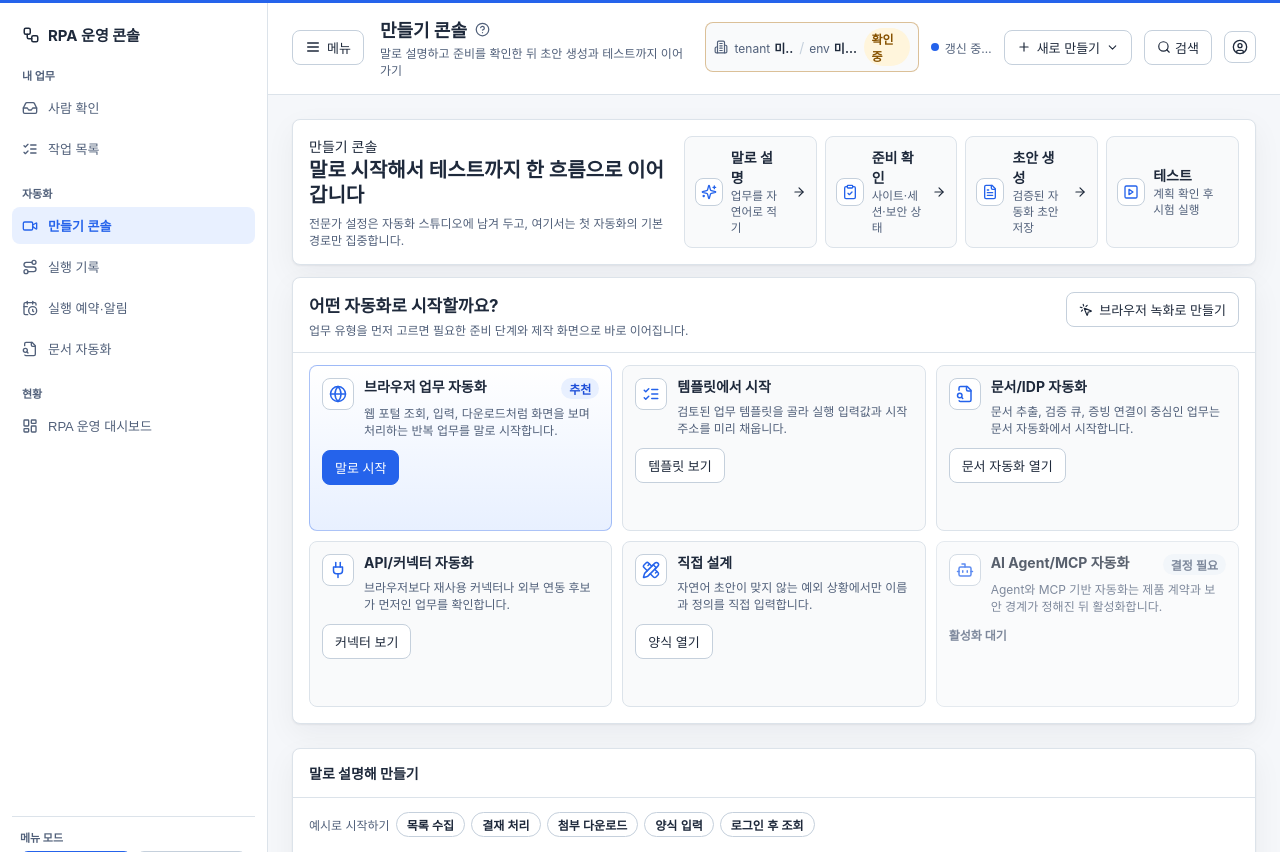
Scenario: mobile drawer navigation › drawer opens with role-filtered nav
Click the button "메뉴" at (328, 47), box x1=292 y1=30 x2=364 y2=64
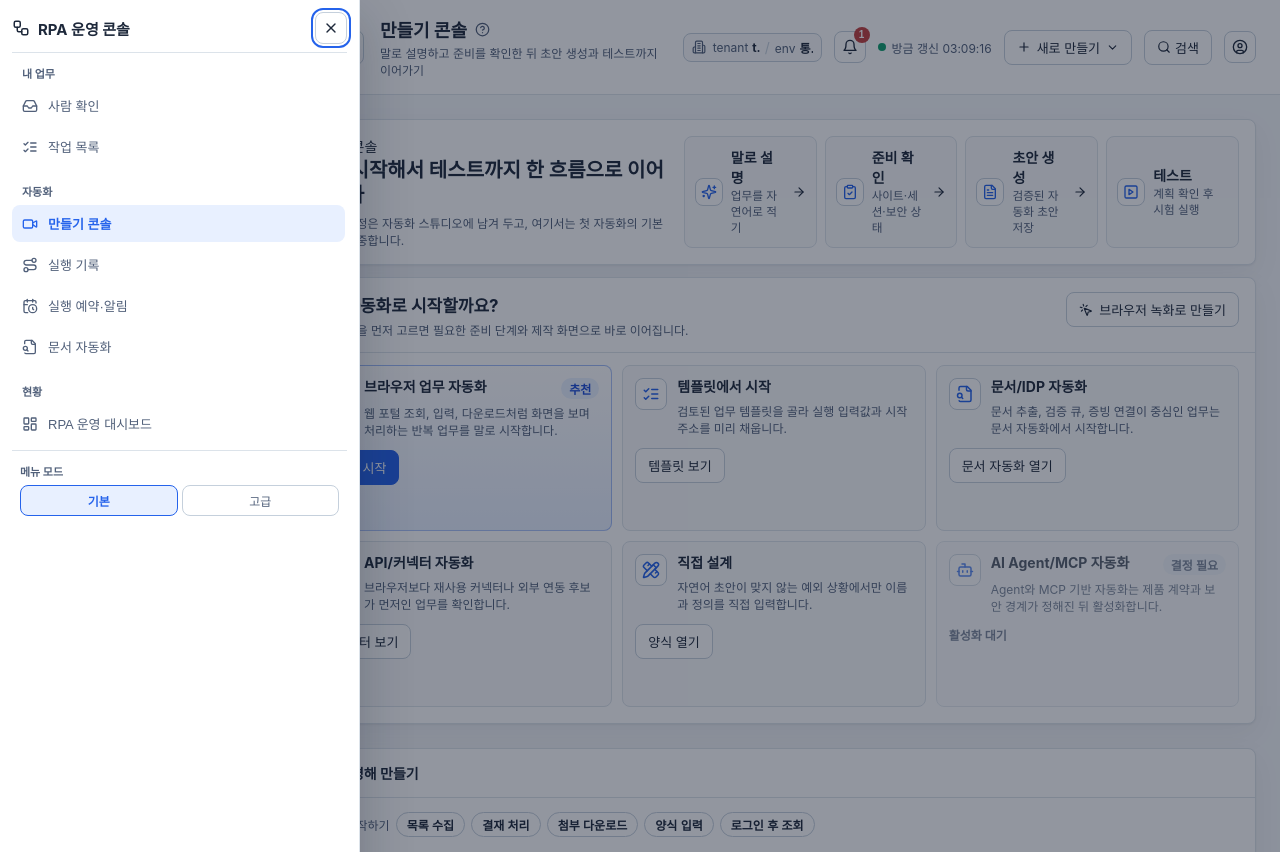
Result: the button "메뉴" is expanded at x1=292 y1=30 x2=364 y2=64
Result: the navigation bar named "모바일 주 메뉴" is shown at x1=12 y1=61 x2=347 y2=442
Result: the button "실행 기록" is shown at x1=12 y1=246 x2=345 y2=283
